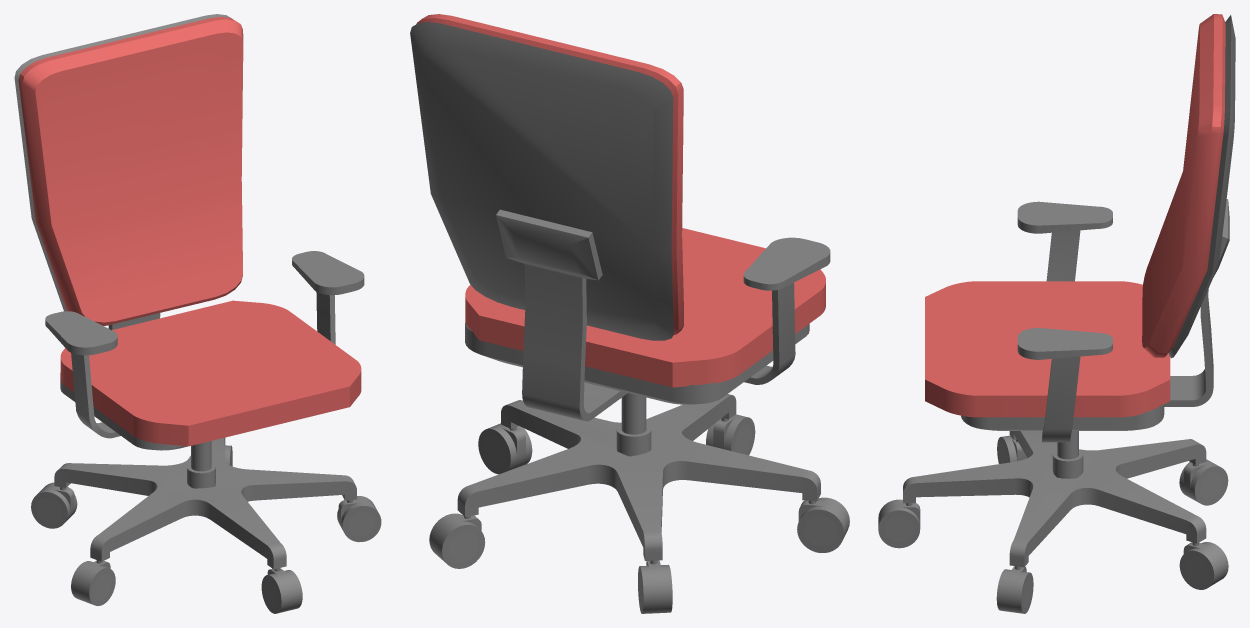
Rendered from Office Chair.fbx.
3 renders of one model, left to right at view 1: azimuth 30°, elevation 25°; view 2: azimuth 150°, elevation 25°; view 3: azimuth 270°, elevation 25°, orthographic. The views are drawn at different scales.
Visible parts, largest first — view 1: Plane, Foot; view 2: Plane, Foot; view 3: Plane, Foot.
Part boxes in pixels (<box>): Plane: <box>14,14,364,488</box>; Foot: <box>31,437,381,613</box>; Plane: <box>410,14,830,456</box>; Foot: <box>429,394,849,613</box>; Plane: <box>925,14,1235,478</box>; Foot: <box>878,431,1228,613</box>.
Size of the model in its own units: 4.82 by 6.94 by 4.67.
